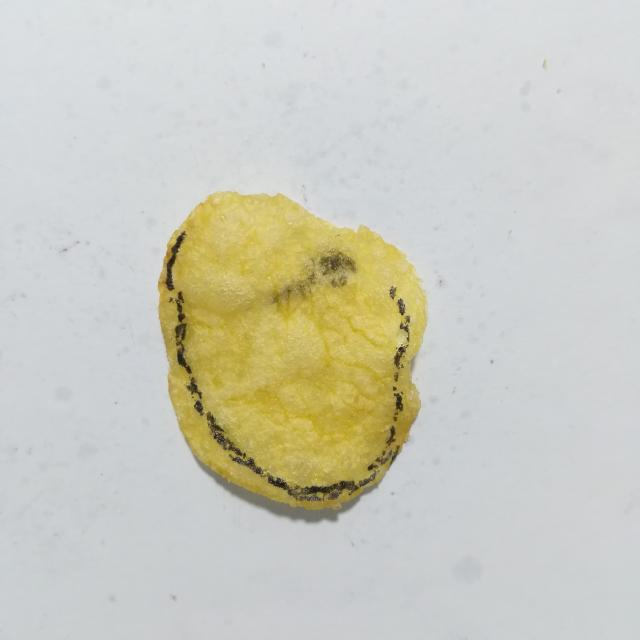chip: (158, 192, 427, 509)
damaged: (206, 412, 380, 502), (268, 471, 379, 502), (175, 291, 191, 374), (165, 231, 186, 291), (392, 386, 403, 421), (248, 458, 267, 477), (187, 378, 201, 400), (394, 346, 406, 369), (375, 450, 392, 465), (389, 445, 400, 466), (386, 425, 396, 447), (400, 321, 409, 342), (397, 298, 405, 315), (194, 400, 203, 415), (389, 286, 396, 300), (368, 463, 378, 470), (404, 315, 410, 324), (394, 372, 399, 382), (169, 297, 174, 302), (382, 450, 386, 456)
semi-damaged: (275, 249, 357, 302)
